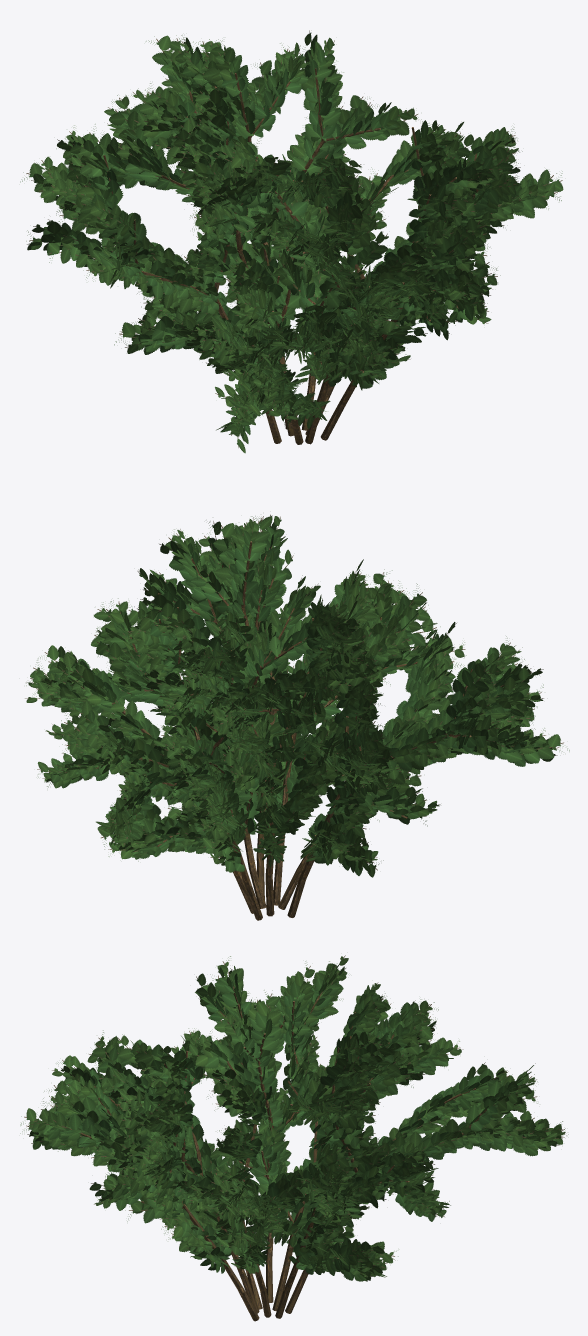
The model's file is alder_thicket_v01.fbx.
3 renders of one model, top to bottom at view 1: azimuth 30°, elevation 25°; view 2: azimuth 150°, elevation 25°; view 3: azimuth 270°, elevation 25°, orthographic. The views are drawn at different scales.
Parts seen in each view (by area): view 1: alder_thicket_v01; view 2: alder_thicket_v01; view 3: alder_thicket_v01.
Boxes of the visible parts, <box> form: alder_thicket_v01: <box>20,30,563,453</box>; alder_thicket_v01: <box>25,514,569,920</box>; alder_thicket_v01: <box>20,955,568,1321</box>.
Size of the model in its own units: 459 by 340 by 524.
2 materials, 2 textured.
